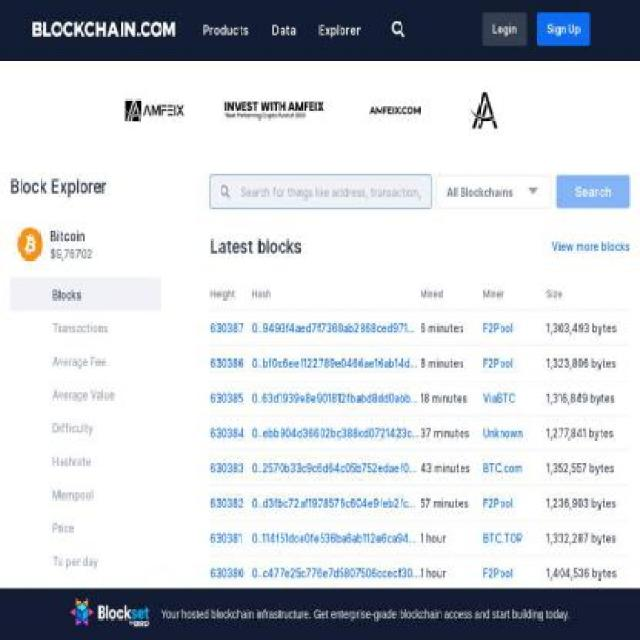button: (9, 210, 160, 278), (9, 277, 160, 311), (9, 344, 160, 378), (9, 410, 160, 444), (9, 444, 160, 478), (9, 477, 160, 511), (9, 510, 160, 544), (9, 544, 160, 578), (9, 577, 160, 611), (9, 311, 160, 344), (9, 378, 160, 410), (10, 611, 161, 638), (30, 21, 178, 39), (556, 174, 630, 208), (252, 320, 420, 334), (252, 356, 420, 370), (252, 390, 420, 404), (252, 426, 420, 440), (252, 460, 420, 474), (252, 496, 420, 510), (252, 530, 420, 544), (252, 566, 420, 580), (252, 600, 420, 614), (536, 12, 590, 46), (482, 12, 527, 46), (552, 239, 630, 253), (482, 320, 547, 334), (482, 356, 547, 370), (482, 390, 547, 404), (482, 426, 547, 440), (482, 460, 547, 474), (482, 496, 547, 510), (482, 530, 547, 544), (482, 566, 547, 580), (482, 600, 547, 614), (210, 320, 253, 334), (210, 356, 253, 370), (210, 390, 253, 404), (210, 426, 253, 440), (210, 460, 253, 474), (210, 496, 253, 510), (210, 530, 253, 544), (210, 566, 253, 580), (210, 600, 253, 614), (252, 636, 420, 639), (482, 636, 547, 639), (210, 636, 253, 639)
field: (210, 174, 432, 208)
